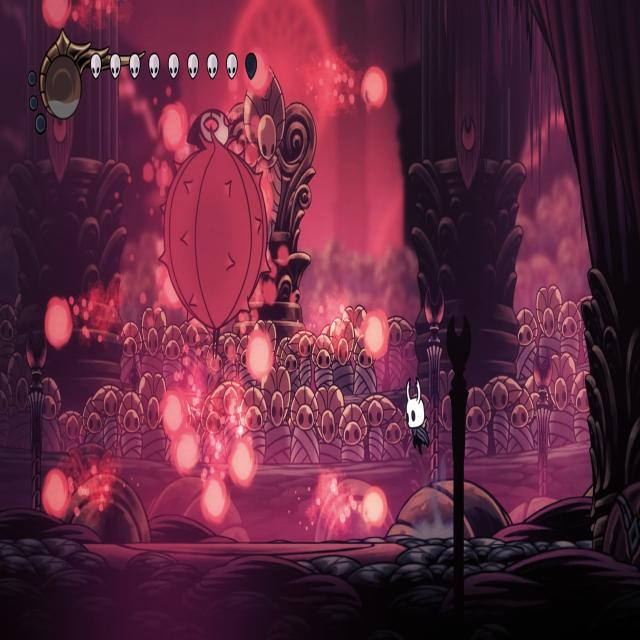Player: (403, 374, 434, 457)
Pufferfish: (157, 107, 275, 367)
Tiny Fireballs: (160, 102, 190, 155), (43, 467, 72, 520), (46, 300, 74, 350), (230, 437, 257, 487), (245, 331, 272, 381), (202, 474, 229, 524), (170, 429, 198, 476), (244, 51, 272, 98), (362, 312, 387, 360), (162, 390, 186, 438), (361, 68, 386, 110), (362, 488, 387, 526), (163, 264, 182, 310), (42, 0, 72, 29)
